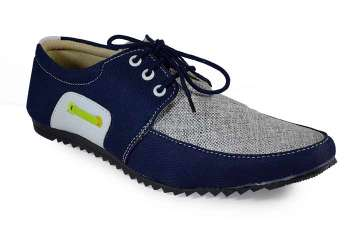Footwear: (24, 31, 340, 199)
